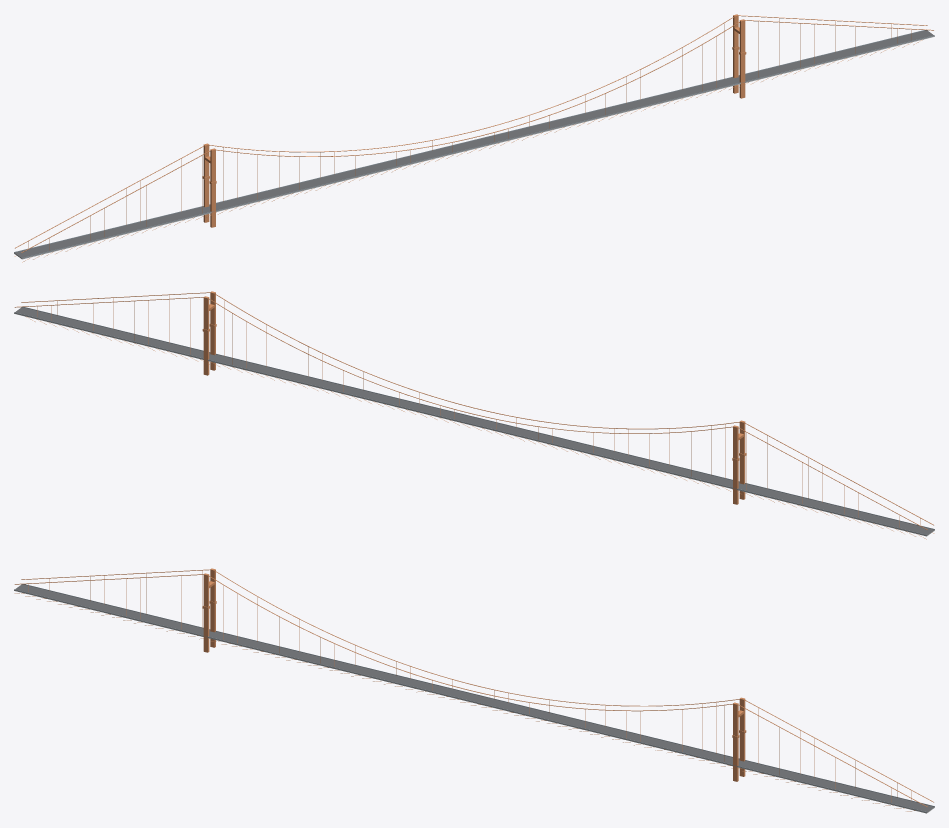
The picture shows the model from 3 angles, top to bottom: view 1: azimuth 30°, elevation 25°; view 2: azimuth 150°, elevation 25°; view 3: azimuth 330°, elevation 25°; orthographic projection.
Parts seen in each view (by area): view 1: worldgen; view 2: worldgen; view 3: worldgen.
Boxes of the visible parts, box(x1,y1,x2,y2) form: worldgen: box(14, 14, 934, 262); worldgen: box(14, 291, 934, 539); worldgen: box(14, 568, 934, 813).
Bounding box in the file's own units: 2100 × 170 × 34.87.
